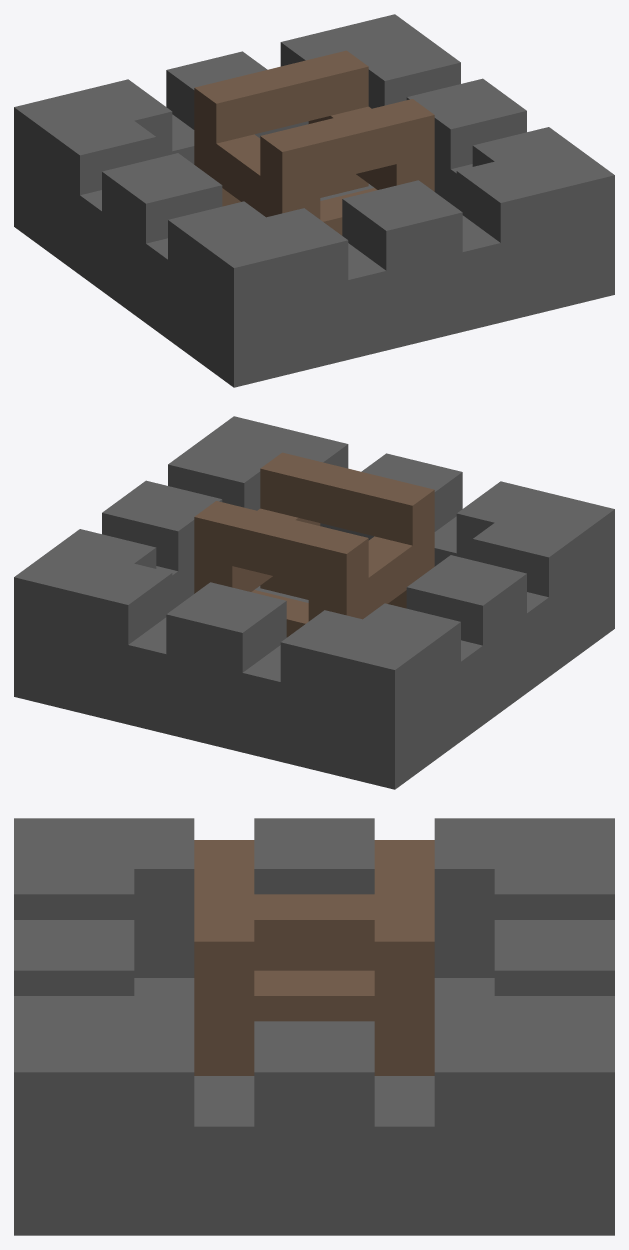
The model's file is campfire.dae.
3 renders of one model, top to bottom at view 1: azimuth 30°, elevation 25°; view 2: azimuth 150°, elevation 25°; view 3: azimuth 270°, elevation 25°, orthographic. The views are drawn at different scales.
Parts seen in each view (by area): view 1: PlaneCOL; view 2: PlaneCOL; view 3: PlaneCOL.
Boxes of the visible parts, <box> form: PlaneCOL: <box>14,14,614,387</box>; PlaneCOL: <box>14,416,614,789</box>; PlaneCOL: <box>14,818,614,1235</box>.
Size of the model in its own units: 1 by 1 by 0.4.
